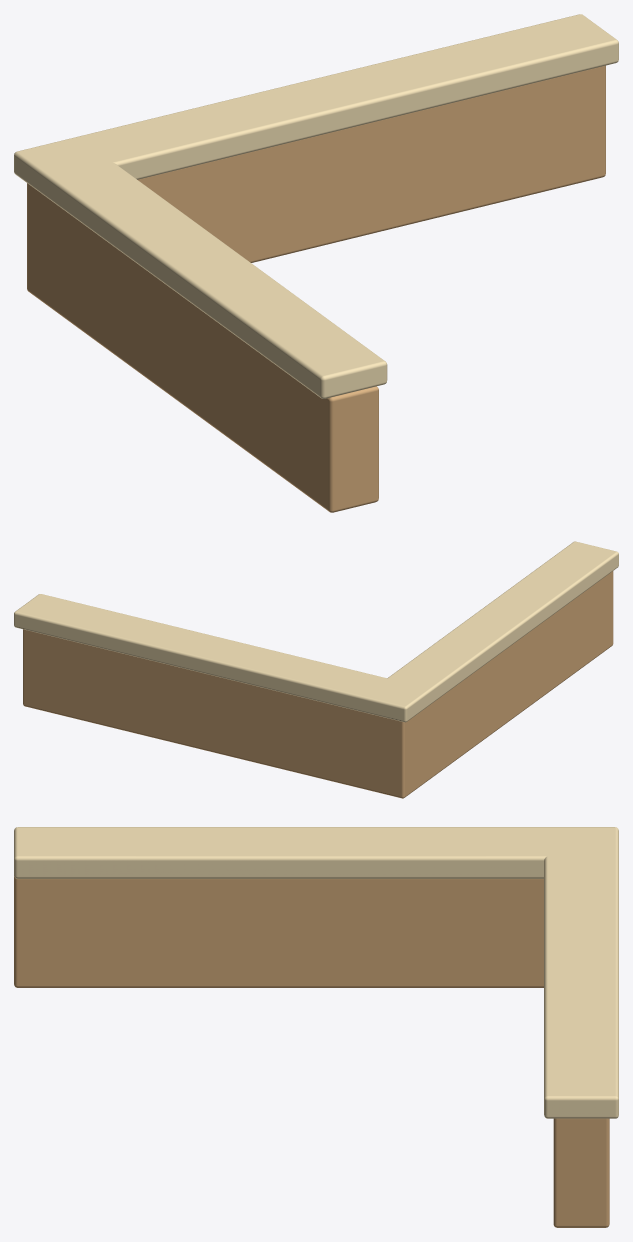
File: desert-caravanserai-and-bazaar-parapet-return-7af5ce9a__30447.glb
The picture shows the model from 3 angles, top to bottom: view 1: azimuth 30°, elevation 25°; view 2: azimuth 150°, elevation 25°; view 3: azimuth 270°, elevation 25°; orthographic projection. The views are drawn at different scales.
Parts seen in each view (by area): view 1: parapet-return; view 2: parapet-return; view 3: parapet-return.
Part boxes in pixels (x1,y1,x2,y2): parapet-return: (14,14,618,512); parapet-return: (14,541,618,798); parapet-return: (14,827,618,1227).
Bounding box in the file's own units: 2.06 × 0.4799 × 1.94.
